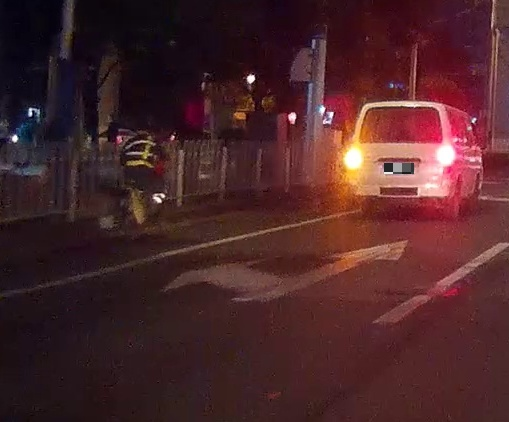L_light: (343, 149, 364, 170)
R_light: (436, 144, 455, 166)
T_light: (392, 106, 411, 111)
night-no: (343, 101, 455, 218)
plate_1: (384, 163, 414, 174)
